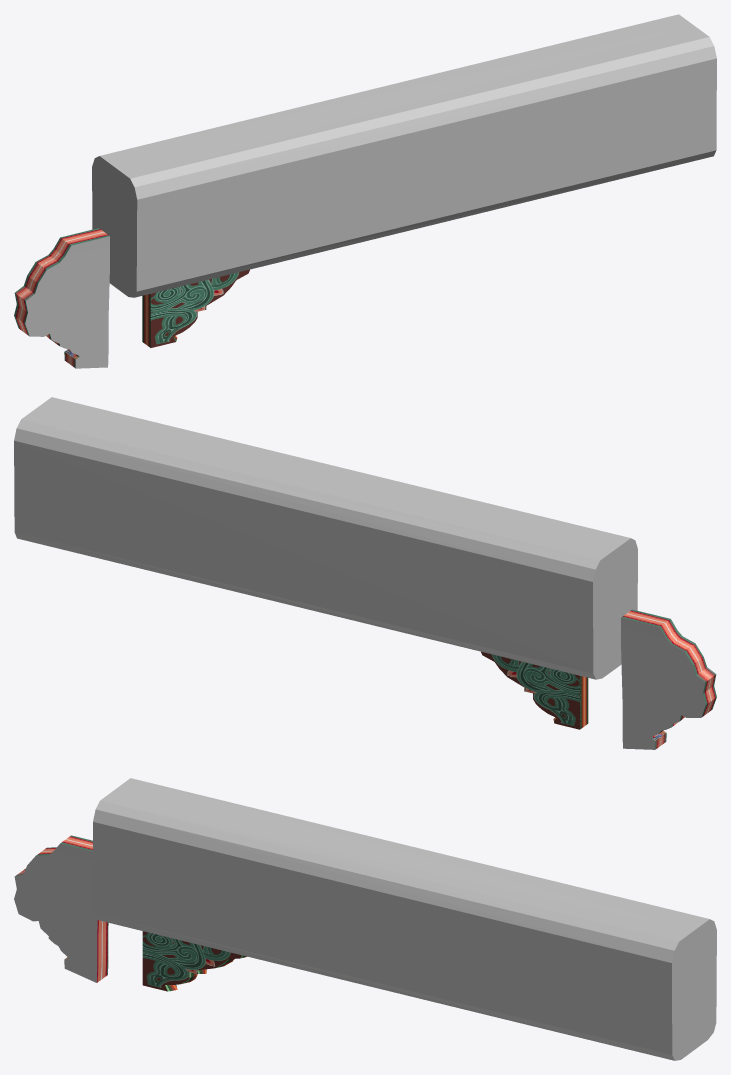
Rendered from SM_R_Beam_3.fbx.
3 renders of one model, top to bottom at view 1: azimuth 30°, elevation 25°; view 2: azimuth 150°, elevation 25°; view 3: azimuth 330°, elevation 25°, orthographic.
Parts seen in each view (by area): view 1: SM_R_Beam_3_LOD0; view 2: SM_R_Beam_3_LOD0; view 3: SM_R_Beam_3_LOD0.
Boxes of the visible parts, x1,y1,x2,y2 form: SM_R_Beam_3_LOD0: (14, 14, 716, 368); SM_R_Beam_3_LOD0: (14, 397, 716, 749); SM_R_Beam_3_LOD0: (14, 778, 716, 1060).
Size of the model in its own units: 357 by 41.44 by 97.49.
